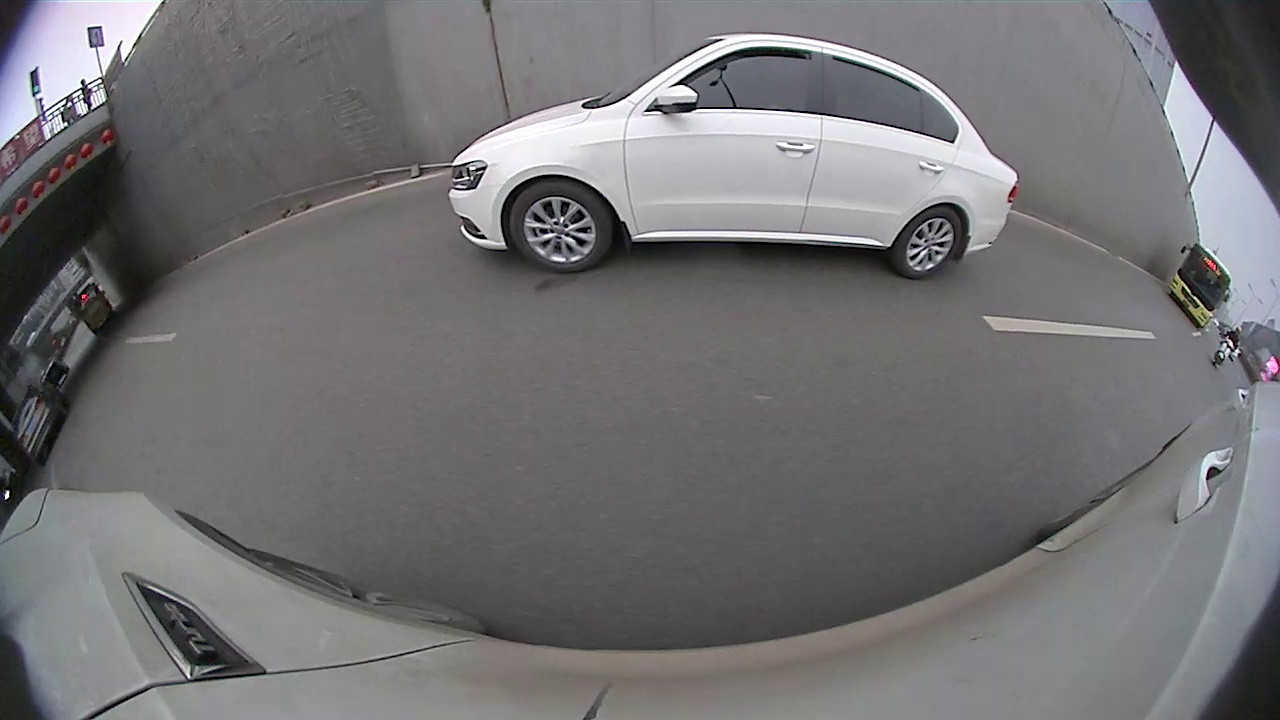bus: (1165, 236, 1229, 329)
car: (450, 31, 1017, 282), (14, 384, 73, 460)
front: (504, 172, 618, 273)
rear: (887, 204, 971, 278)
rider: (1209, 325, 1241, 365)
